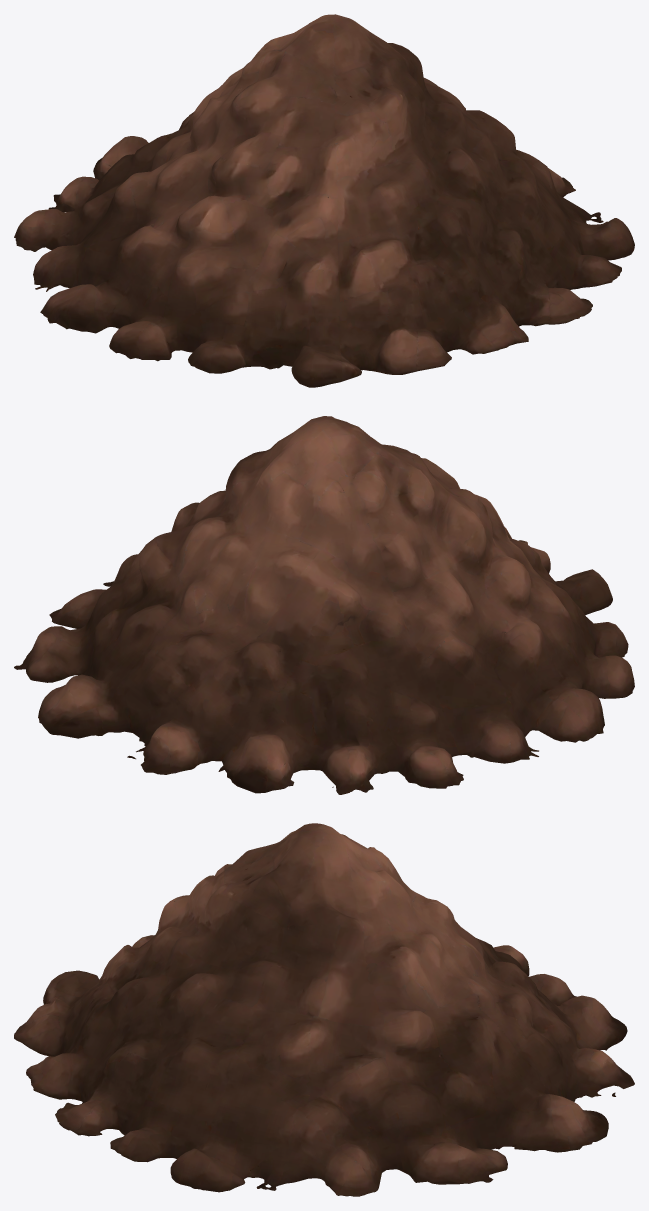
Rendered from dirt-pile.glb.
3 views of the same model, one above another, from view 1: azimuth 30°, elevation 25°; view 2: azimuth 150°, elevation 25°; view 3: azimuth 270°, elevation 25° (orthographic).
Bounding box in the file's own units: 1.89 × 0.8203 × 1.9.
1 material, 1 textured.
